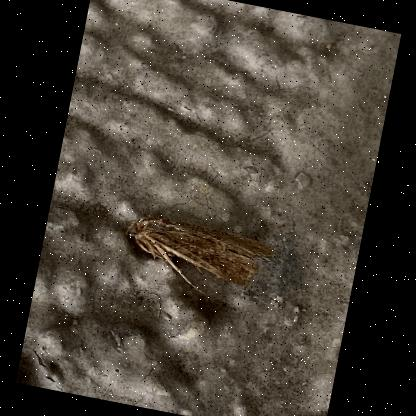Fall Armyworm Moth: (113, 206, 280, 310)
